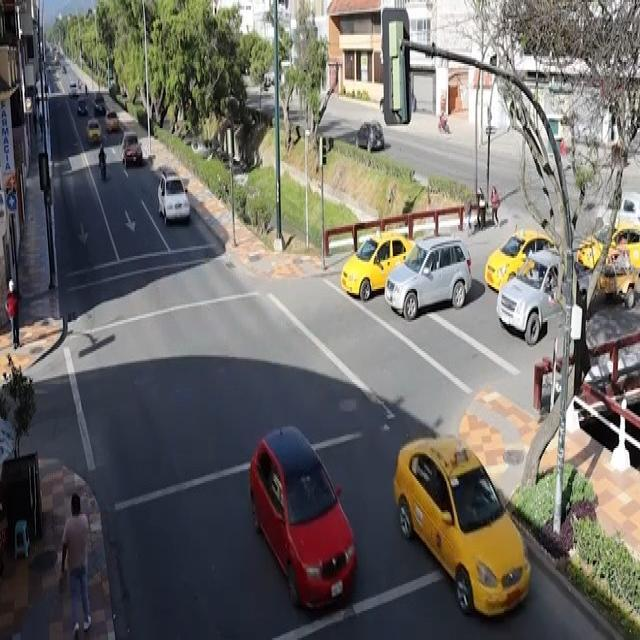CMT: (499, 258, 560, 338)
SED: (155, 171, 193, 227)
SUV: (386, 238, 473, 316)
